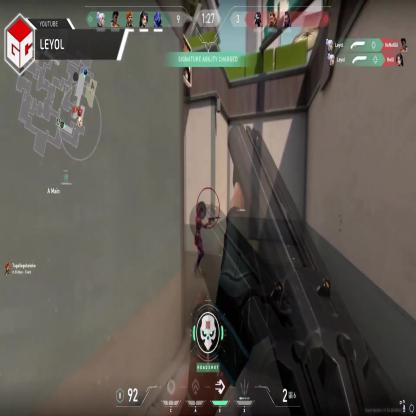enemy: (190, 206, 206, 276)
enemy_head: (197, 207, 202, 218)
